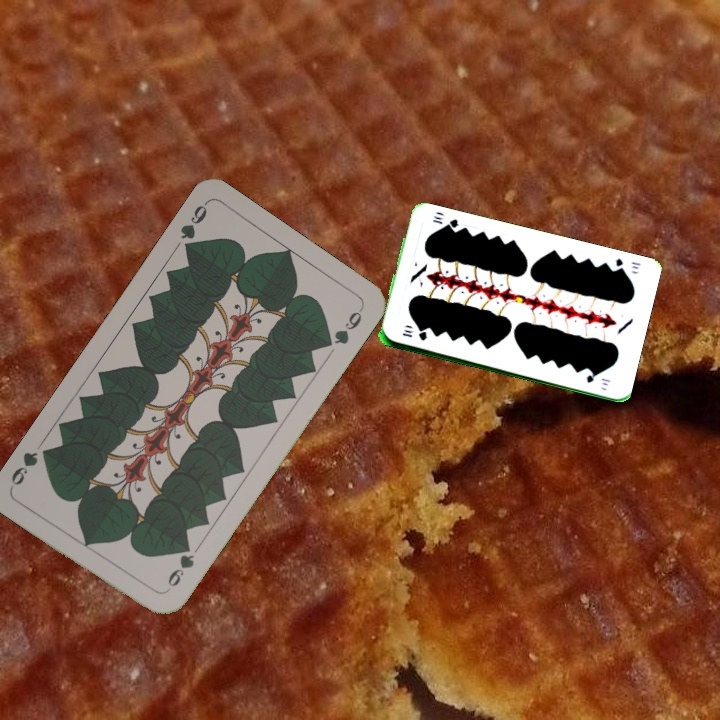G10: (611, 254, 643, 275), (398, 326, 429, 343)
G9: (161, 539, 197, 595), (176, 198, 210, 257)
